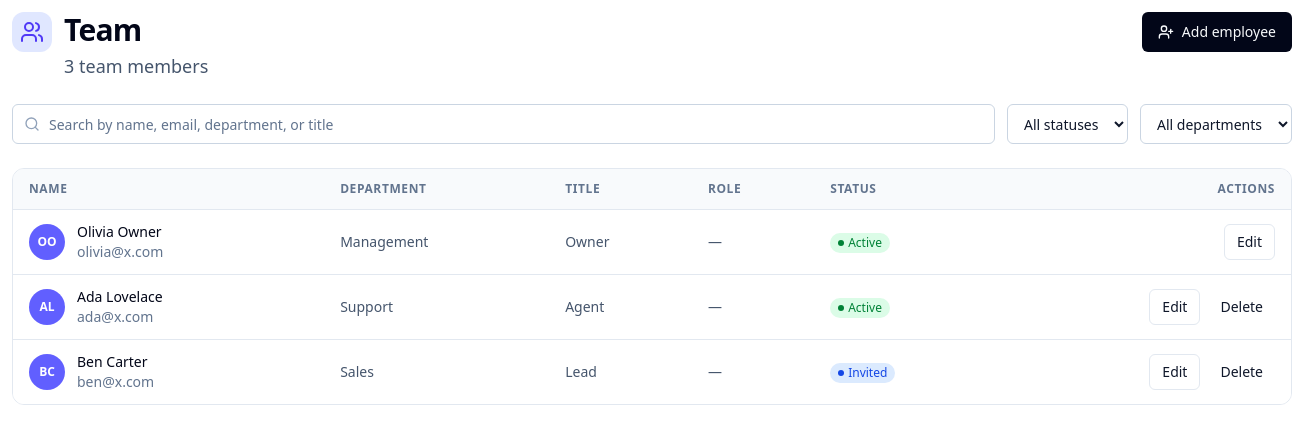
Scenario: TeamPage › searches case-insensitively and reports when nothing matches
This screenshot has width=1304, height=422.
Expected: the button "Ada Lovelace" is shown, top-left (77, 287), bottom-right (163, 307)
Type "ADA" into the search field named "Search employees" at (504,124), box top-left (12, 104), bottom-right (995, 144)
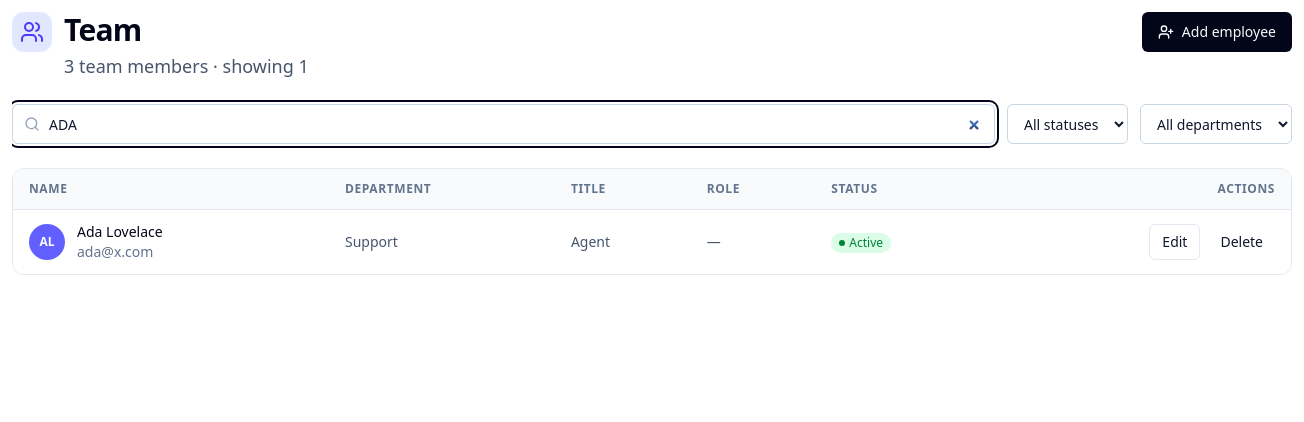
Expected: the button "Ada Lovelace" is shown, top-left (77, 222), bottom-right (163, 242)
Expected: the button "Ben Carter" is gone
Expected: the text "3 team members · showing 1" is shown, top-left (64, 52), bottom-right (309, 80)
Replace the text in the search field named "Search employees" with "zzz" at (504,124), box top-left (12, 104), bottom-right (995, 144)
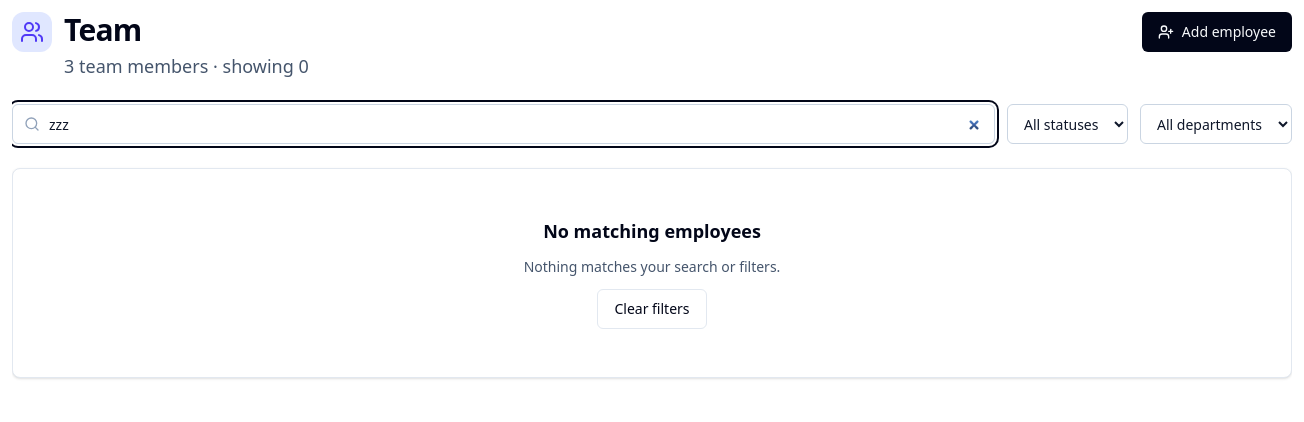
Expected: the heading "No matching employees" is shown, top-left (543, 217), bottom-right (761, 245)
Click the button "Clear filters" at (652,309), box top-left (597, 289), bottom-right (706, 329)
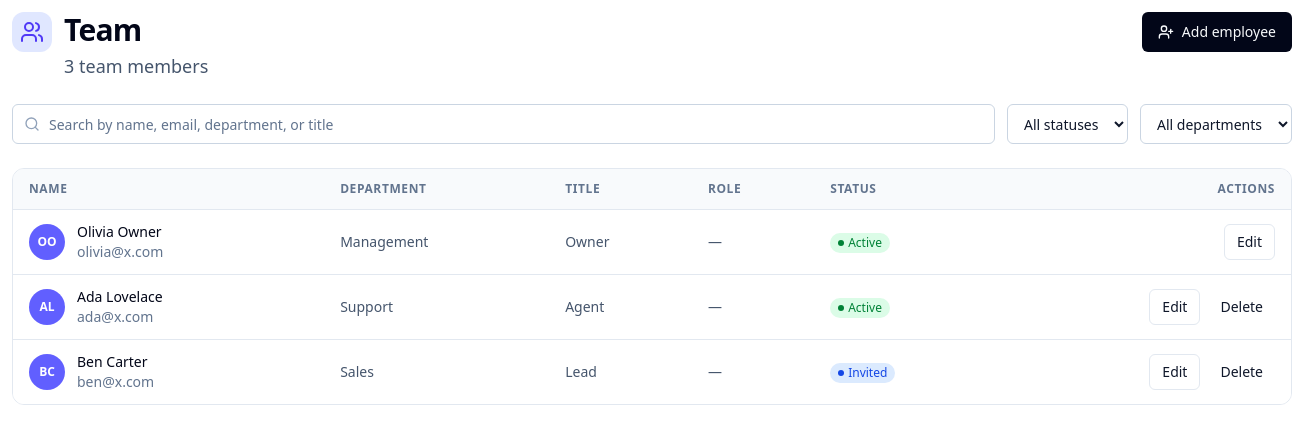
Expected: the button "Ben Carter" is shown, top-left (77, 352), bottom-right (148, 372)
